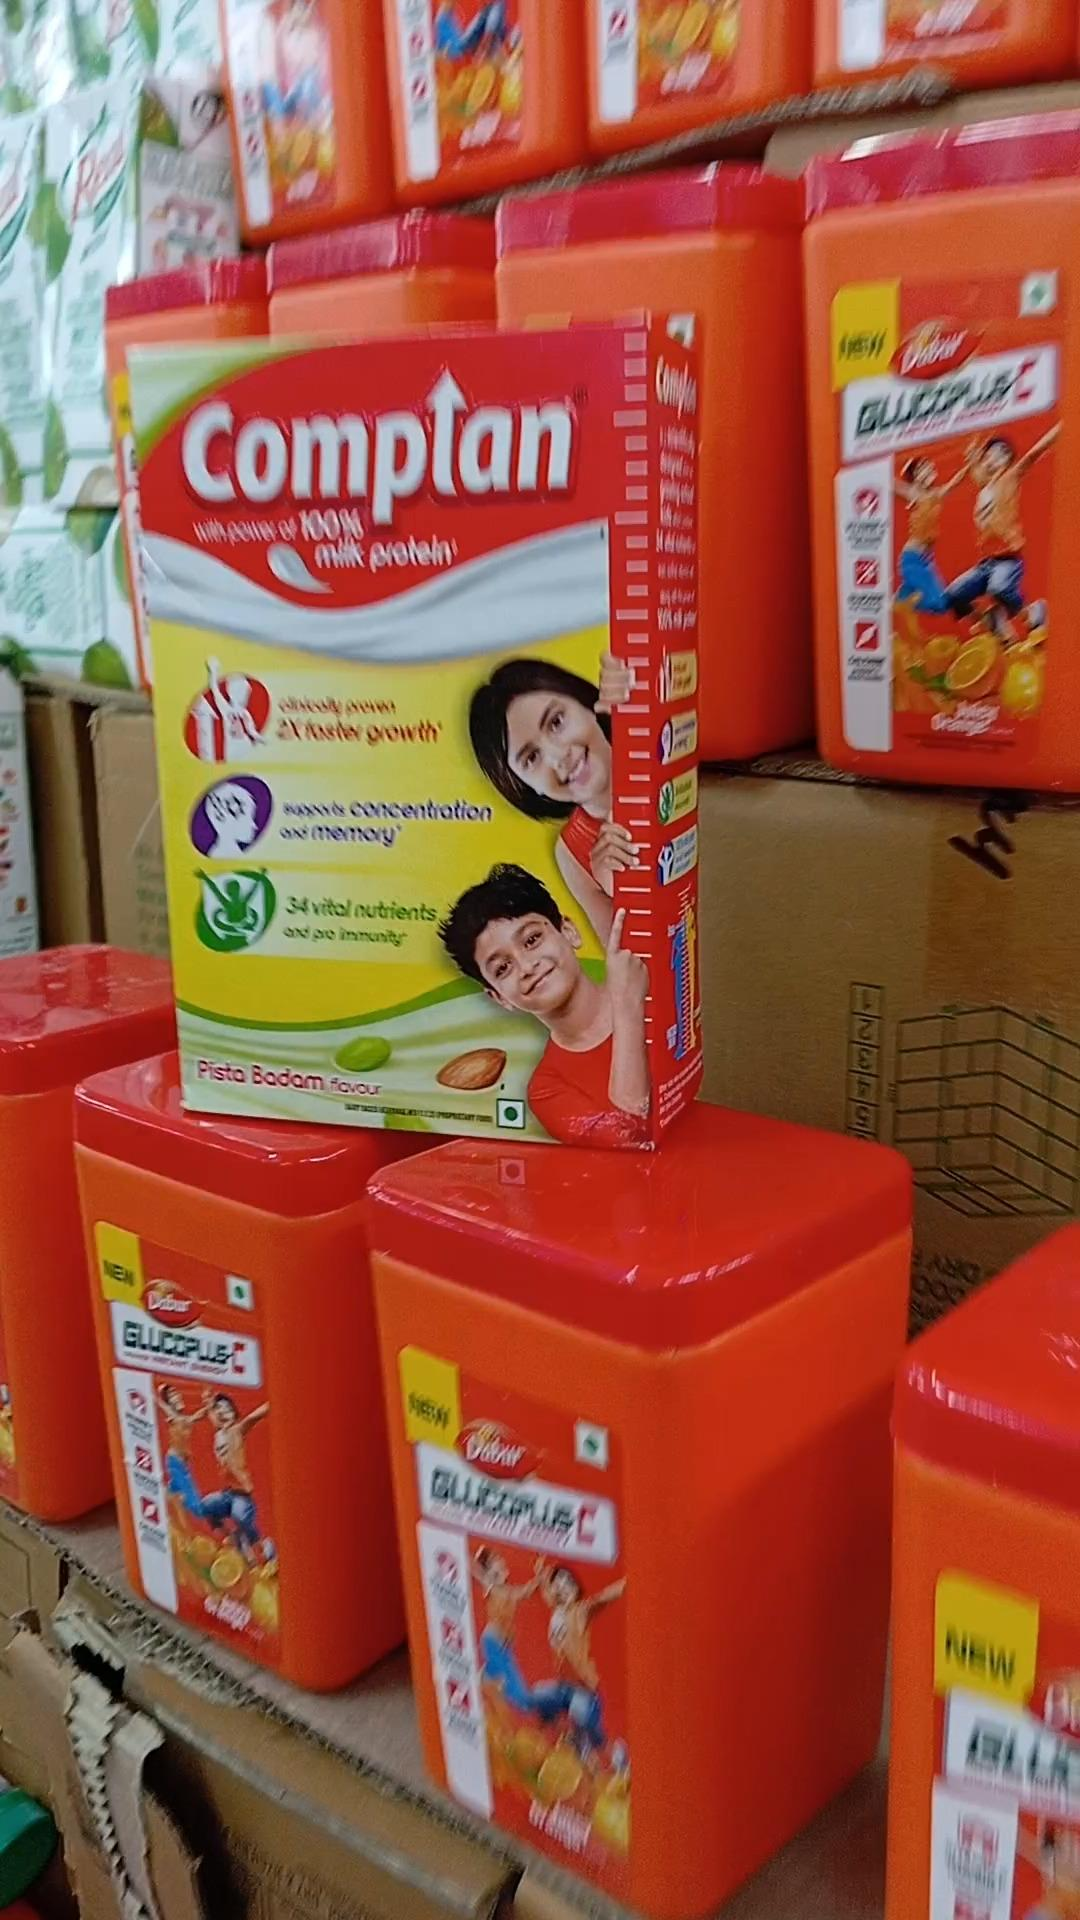COMPLAN_PISTA_BADAM_500_GMS_PACK: (157, 343, 657, 1143)
